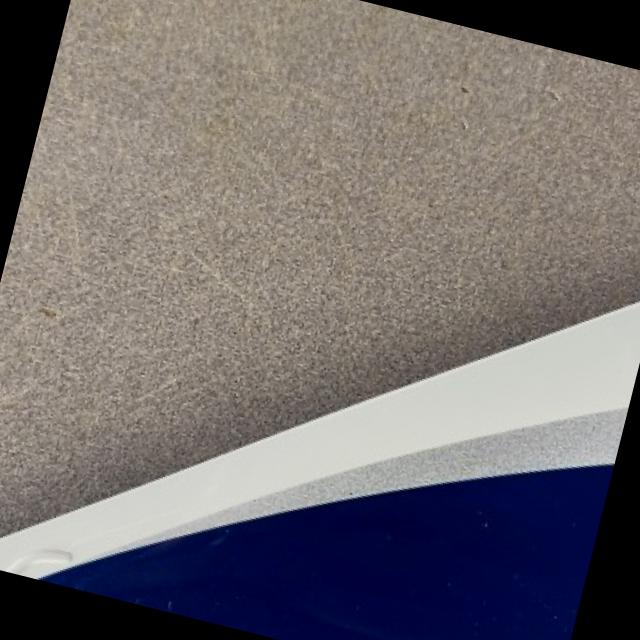healthy: (0, 0, 640, 536), (0, 301, 640, 640)
